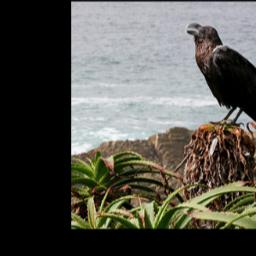Crow: (181, 22, 256, 141)
